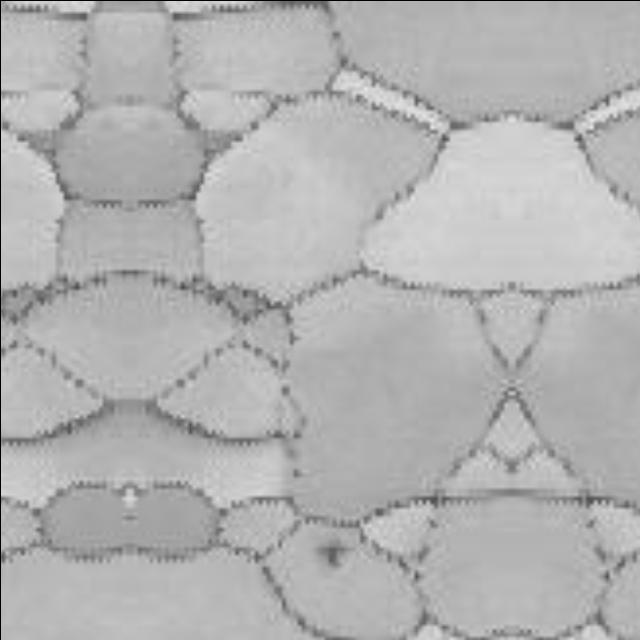good_void: (315, 538, 354, 564)
